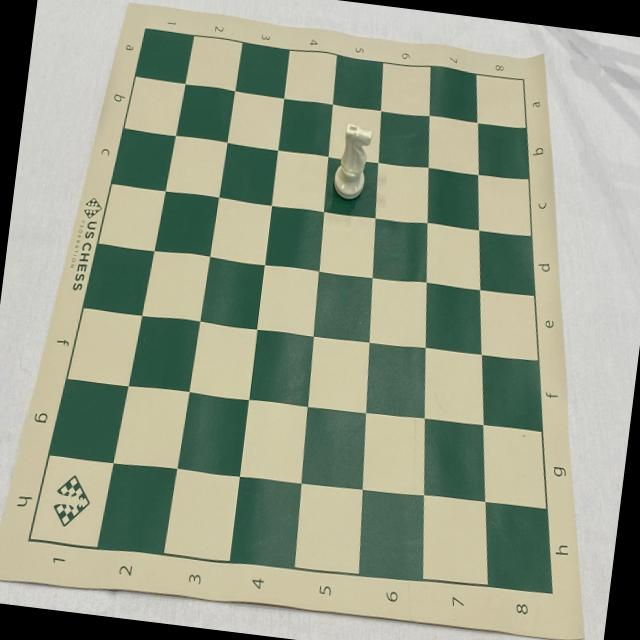white-knight: (330, 122, 374, 204)
